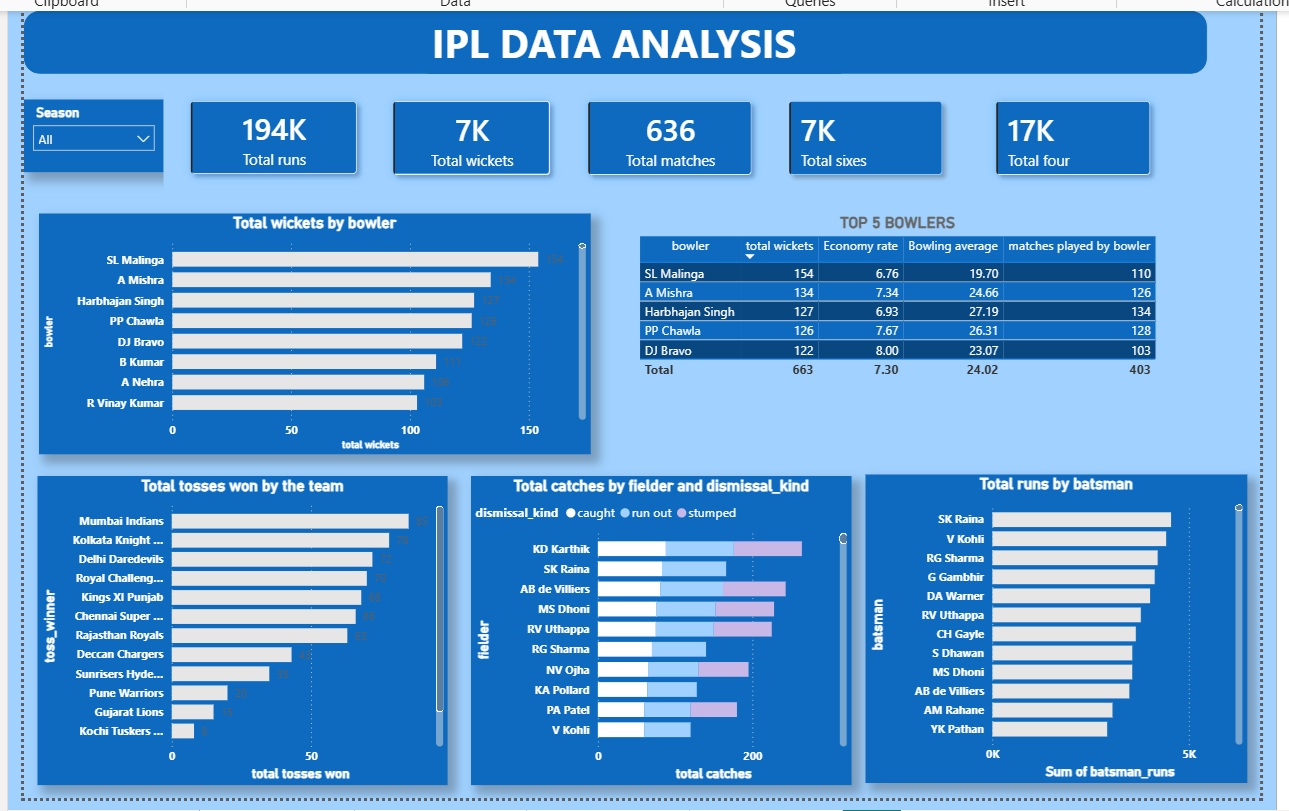

The page's visual inventory and layout, read from the dashboard file:
{"tool":"powerbi","page":{"name":"Player Stats","canvas":[1339,852],"ordinal":0},"visuals":[{"type":"barChart","title":"Total runs by batsman","fields":{"Y":["Sum(deliveries csv.batsman_runs)"],"Category":["deliveries csv.batsman"]},"box":[911.3,502.1,413.2,334.1],"z":0},{"type":"barChart","title":"Total wickets by bowler","fields":{"Category":["deliveries csv.bowler"],"Y":["deliveries csv.total wickets"]},"box":[15.8,219.4,597,260.9],"z":1000},{"type":"slicer","fields":{"Values":["matches (1) csv.season"]},"box":[0,96.3,151.6,78.9],"z":2000},{"type":"barChart","title":"Total catches by fielder and dismissal_kind","fields":{"Category":["deliveries csv.fielder"],"Y":["deliveries csv.total catches"],"Series":["deliveries csv.dismissal_kind"]},"box":[483.8,502.7,412,334.5],"z":3000},{"type":"cardVisual","fields":{"Data":["Sum(deliveries csv.total_runs)"]},"box":[151.6,67.9,238.4,137.4],"z":4000},{"type":"cardVisual","fields":{"Data":["deliveries csv.total wickets"]},"box":[369.5,67.9,229,138.9],"z":5000},{"type":"cardVisual","fields":{"Data":["deliveries csv.Total matches"]},"box":[581.1,67.9,235.3,138.9],"z":6000},{"type":"cardVisual","fields":{"Data":["deliveries csv.total sixes"]},"box":[799,67.9,224.2,138.9],"z":7000},{"type":"cardVisual","fields":{"Data":["deliveries csv.total four"]},"box":[1023.2,67.9,225.8,138.9],"z":8000},{"type":"barChart","title":"Total tosses won by the team","fields":{"Category":["matches (1) csv.toss_winner"],"Y":["matches (1) csv.total tosses won"]},"box":[15.1,502.7,444.1,334.5],"z":9000},{"type":"shape","box":[0,0,1280.5,67.9],"z":10000},{"type":"textbox","box":[436.8,0,448.2,68.2],"z":11000},{"type":"tableEx","title":"TOP 5 BOWLERS","fields":{"Values":["deliveries csv.bowler","deliveries csv.total wickets","deliveries csv.Economy rate","deliveries csv.Bowling average","deliveries csv.matches played by bowler"]},"box":[660.3,219.4,569.3,183.9],"z":11002}]}

Visuals, with their boxes on the page's 1339x852 design canvas (x1, y1, x2, y2). These are canvas units, not pixel positions in the 1289x811 screenshot, which may show the page scaled, cropped or inside an application window:
"Total runs by batsman" barChart: [left=911, top=502, right=1324, bottom=836]
"Total wickets by bowler" barChart: [left=16, top=219, right=613, bottom=480]
slicer - matches (1) csv.season: [left=0, top=96, right=152, bottom=175]
"Total catches by fielder and dismissal_kind" barChart: [left=484, top=503, right=896, bottom=837]
cardVisual - Sum(deliveries csv.total_runs): [left=152, top=68, right=390, bottom=205]
cardVisual - deliveries csv.total wickets: [left=370, top=68, right=598, bottom=207]
cardVisual - deliveries csv.Total matches: [left=581, top=68, right=816, bottom=207]
cardVisual - deliveries csv.total sixes: [left=799, top=68, right=1023, bottom=207]
cardVisual - deliveries csv.total four: [left=1023, top=68, right=1249, bottom=207]
"Total tosses won by the team" barChart: [left=15, top=503, right=459, bottom=837]
shape: [left=0, top=0, right=1280, bottom=68]
textbox: [left=437, top=0, right=885, bottom=68]
"TOP 5 BOWLERS" tableEx: [left=660, top=219, right=1230, bottom=403]
